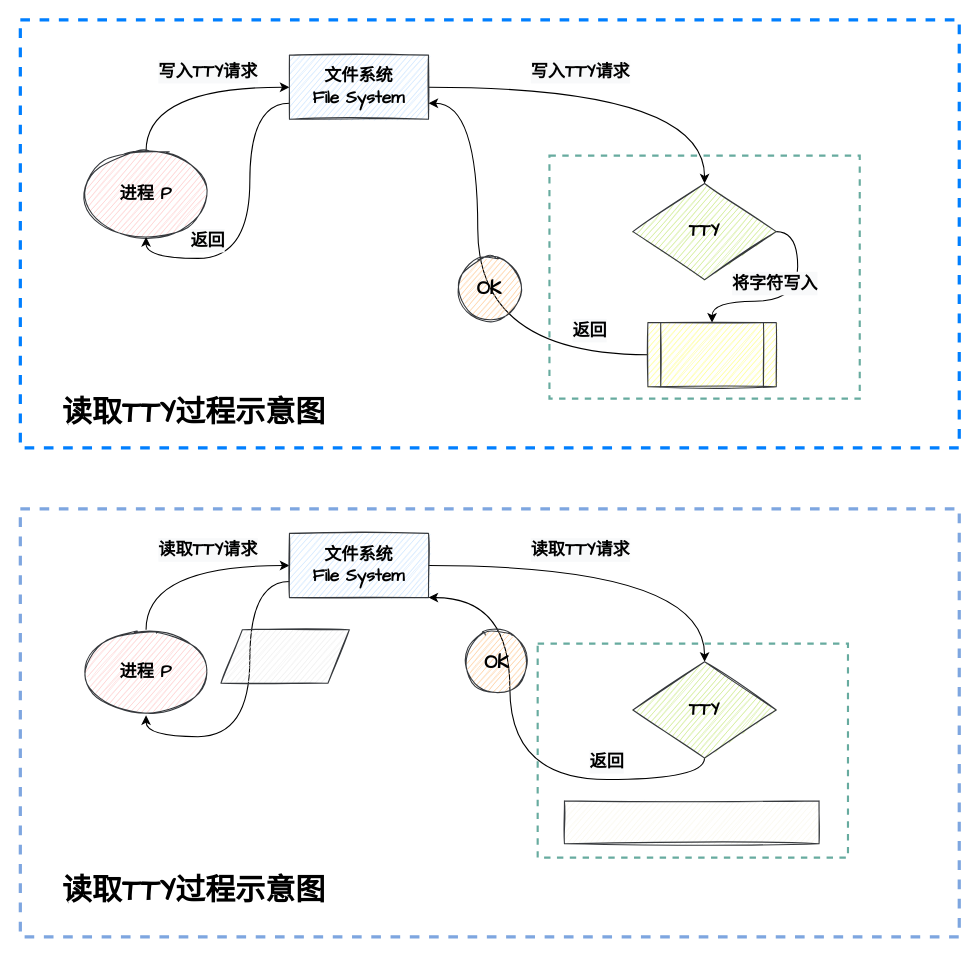
Some shapes in this 979 by 957 pixel diagram are drawn without their labels. Here are the shapes that lost their labels. From the top down, the centre of each, then its label:
point (711, 354): 显存
point (284, 656): 解除对P阻塞
point (691, 822): 记录发送请求的进程号等信息 [PID pid(P)]，并即刻返回
